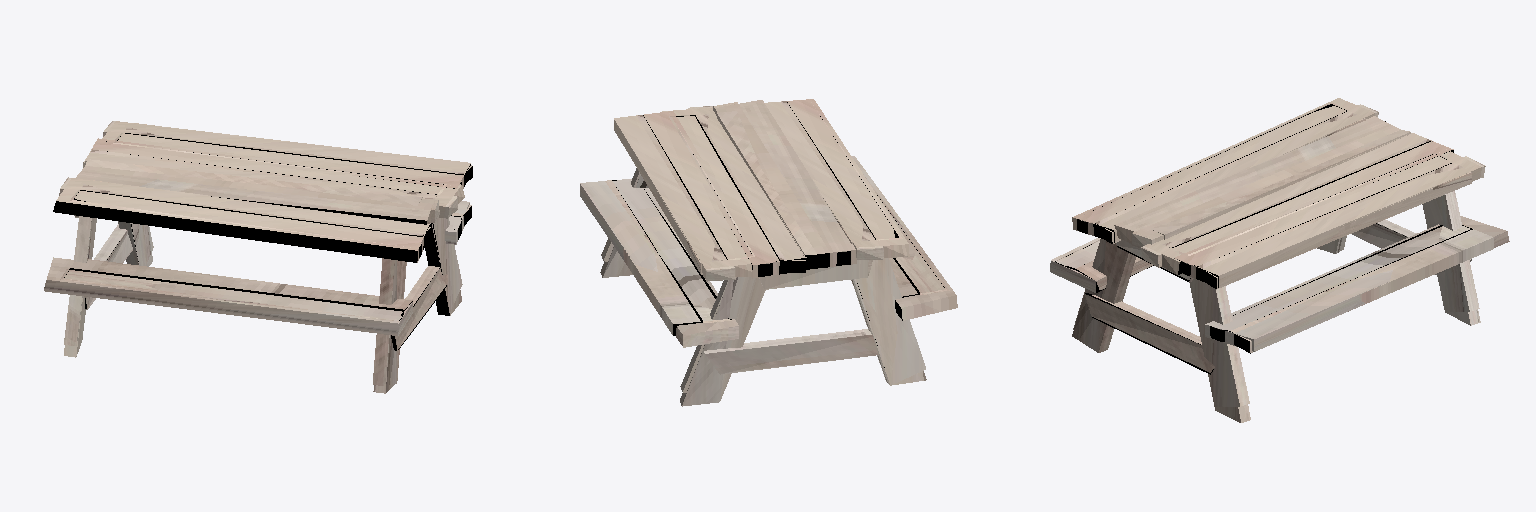
3 views of the same model, side by side, from view 1: azimuth 30°, elevation 25°; view 2: azimuth 150°, elevation 25°; view 3: azimuth 270°, elevation 25° (orthographic).
Parts seen in each view (by area): view 1: table boardf boardw boardt, table board2, table boardq, table boarda, boardz table, table boards1, table boardb, table pCube8, table boardg; view 2: table boardf boardw boardt, table boardg, boardz table, table pCube8, table boardb, table board2, table boardn, table boarda; view 3: table boardf boardw boardt, table boardg, table boarda, table boards1, table boardb, table boardq, table board2, table pCube8.
Boxes of the visible parts, x1,y1,x2,y2 form: table boardf boardw boardt: [53, 121, 472, 262]; table board2: [44, 257, 412, 335]; table boardq: [373, 258, 406, 393]; table boarda: [425, 217, 462, 315]; boardz table: [64, 216, 96, 357]; table boards1: [391, 266, 447, 350]; table boardb: [118, 221, 153, 266]; table pCube8: [85, 224, 132, 309]; table boardg: [445, 201, 471, 244]; table boardf boardw boardt: [614, 99, 909, 281]; table boardg: [580, 179, 738, 347]; boardz table: [851, 258, 926, 385]; table pCube8: [704, 329, 878, 374]; table boardb: [680, 277, 765, 406]; table board2: [852, 156, 957, 320]; table boardn: [759, 260, 872, 289]; table boarda: [600, 168, 648, 277]; table boardf boardw boardt: [1072, 98, 1485, 289]; table boardg: [1205, 216, 1509, 353]; table boarda: [1189, 278, 1250, 422]; table boards1: [1085, 293, 1214, 374]; table boardb: [1422, 191, 1480, 325]; table boardq: [1072, 239, 1135, 352]; table board2: [1050, 238, 1153, 292]; table pCube8: [1352, 219, 1471, 274].
Size of the model in its own units: 10.56 by 3.83 by 10.43.
1 materials, 1 textured.